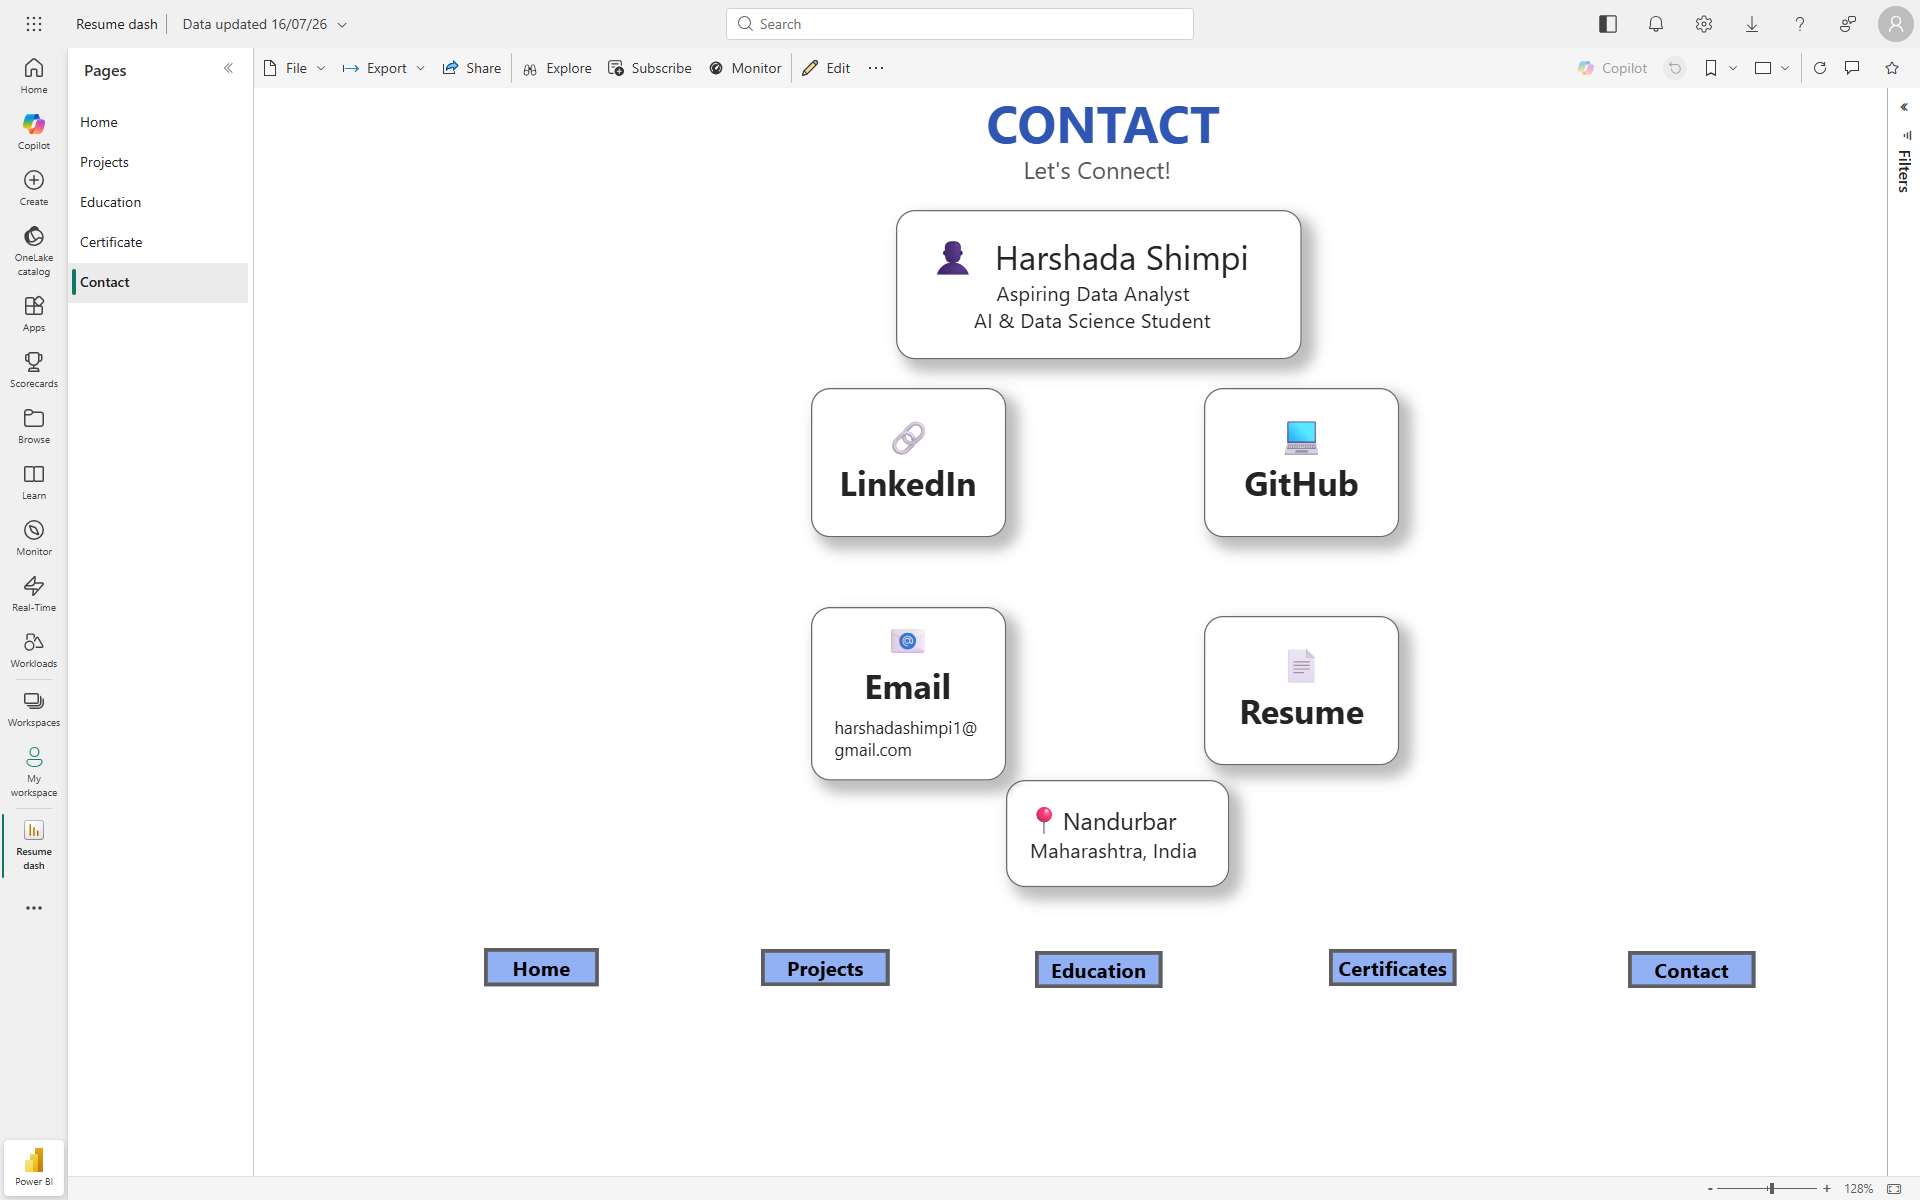

The dashboard page shown, as its layout file describes it:
{"tool":"powerbi","page":{"name":"Contact","canvas":[1280,720],"ordinal":4},"visuals":[{"type":"textbox","title":"CONTACT","box":[568.7,0,196.4,50.9],"z":0},{"type":"textbox","title":" Let''s Connect!","box":[598.3,50.9,136.2,27.8],"z":1000},{"type":"shape","box":[436.2,235.3,152.8,116.7],"z":2000},{"type":"shape","box":[744.7,235.3,152.8,116.7],"z":3000},{"type":"shape","box":[436.2,406.6,152.8,136.2],"z":4000},{"type":"shape","box":[744.7,414,152.8,116.7],"z":5000},{"type":"textbox","title":"🔗 LinkedIn","box":[448.3,254.7,128.7,76.9],"z":6000},{"type":"textbox","title":"💻  GitHub ","box":[769.7,254.7,102.8,76.9],"z":7000},{"type":"textbox","title":"📧 Email","box":[470.5,414,84.3,77.8],"z":8000},{"type":"textbox","title":"📄 Resume ","box":[766.9,433.5,109.3,76.9],"z":9000},{"type":"shape","box":[502.9,95.4,317.7,116.7],"z":10000},{"type":"textbox","box":[524.2,109.3,264,88.9],"z":11000},{"type":"shape","box":[589.1,542.5,175.1,83.7],"z":12000},{"type":"textbox","box":[599.5,553.7,155.3,61.2],"z":13000},{"type":"actionButton","title":"Home","box":[180.2,674,90.1,30],"z":14000},{"type":"actionButton","title":"Projects","box":[397.5,674.9,100.7,29.2],"z":15000},{"type":"actionButton","title":"Experince","box":[612.2,676.7,99.8,29.2],"z":16000},{"type":"actionButton","title":"Certificates","box":[842.7,674.9,99.8,29.2],"z":17000},{"type":"actionButton","title":"Contact","box":[1076.8,676.7,99.8,29.2],"z":18000},{"type":"textbox","box":[450.1,487.2,126.9,45.4],"z":19000}]}

Visuals, with their boxes on the page's 1280x720 design canvas (x1, y1, x2, y2). These are canvas units, not pixel positions in the 1920x1200 screenshot, which may show the page scaled, cropped or inside an application window:
"CONTACT" textbox: BBox(569, 0, 765, 51)
" Let''s Connect!" textbox: BBox(598, 51, 734, 79)
shape: BBox(436, 235, 589, 352)
shape: BBox(745, 235, 898, 352)
shape: BBox(436, 407, 589, 543)
shape: BBox(745, 414, 898, 531)
"🔗 LinkedIn" textbox: BBox(448, 255, 577, 332)
"💻  GitHub " textbox: BBox(770, 255, 872, 332)
"📧 Email" textbox: BBox(470, 414, 555, 492)
"📄 Resume " textbox: BBox(767, 434, 876, 510)
shape: BBox(503, 95, 821, 212)
textbox: BBox(524, 109, 788, 198)
shape: BBox(589, 542, 764, 626)
textbox: BBox(600, 554, 755, 615)
"Home" actionButton: BBox(180, 674, 270, 704)
"Projects" actionButton: BBox(398, 675, 498, 704)
"Experince" actionButton: BBox(612, 677, 712, 706)
"Certificates" actionButton: BBox(843, 675, 942, 704)
"Contact" actionButton: BBox(1077, 677, 1177, 706)
textbox: BBox(450, 487, 577, 533)
